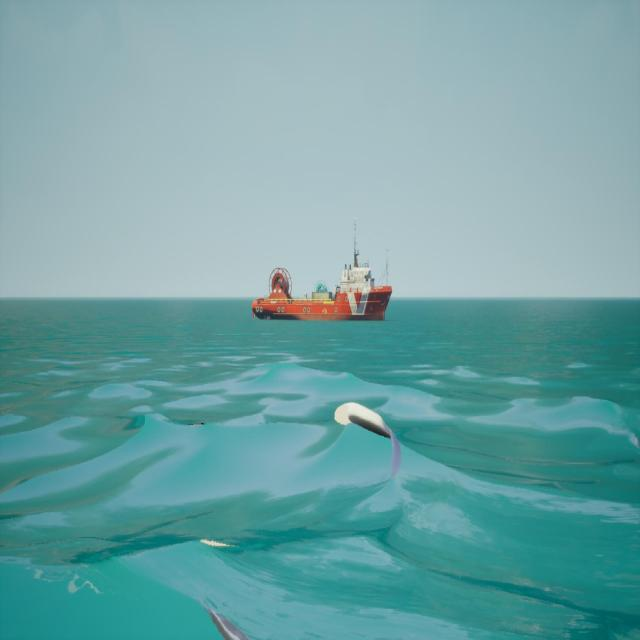tug boat: (253, 218, 395, 324)
